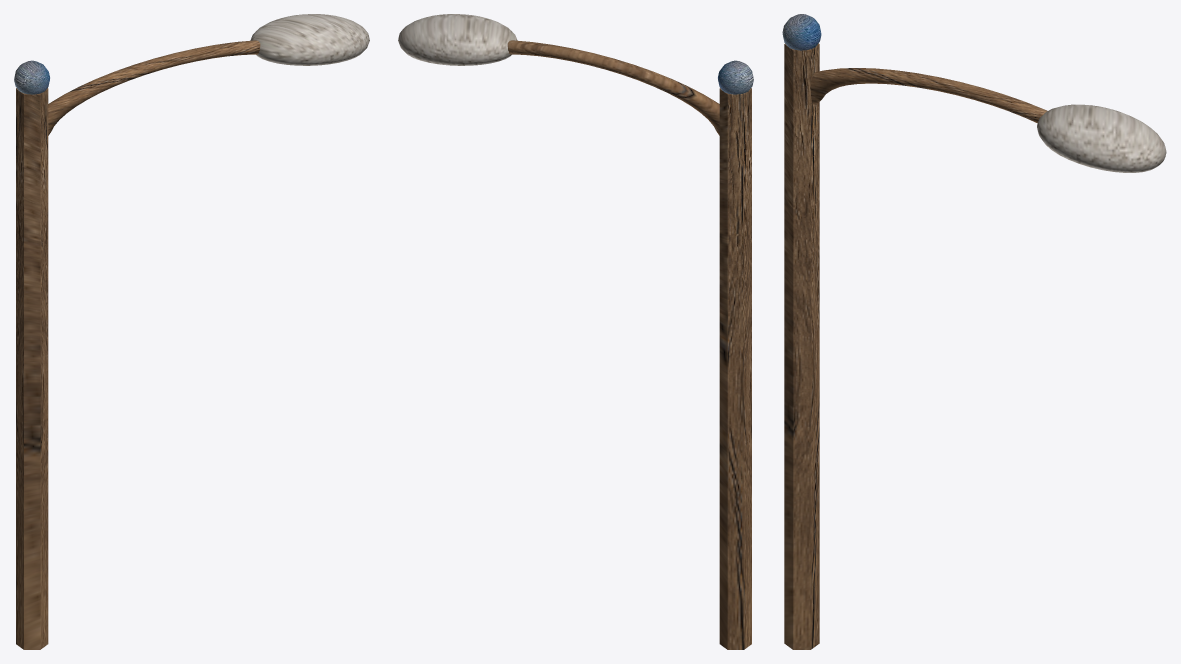
Rendered from P07-lampara.obj.
The picture shows the model from 3 angles, left to right: view 1: azimuth 30°, elevation 25°; view 2: azimuth 150°, elevation 25°; view 3: azimuth 330°, elevation 25°; orthographic projection. The views are drawn at different scales.
Visible parts, largest first — view 1: Pole_Cylinder, LightPart_Sphere.001, Torus.001, Sphere_Sphere.001; view 2: Pole_Cylinder, LightPart_Sphere.001, Torus.001, Sphere_Sphere.001; view 3: Pole_Cylinder, LightPart_Sphere.001, Torus.001, Sphere_Sphere.001.
Boxes of the visible parts, x1,y1,x2,y2 form: Pole_Cylinder: [16, 88, 48, 649]; LightPart_Sphere.001: [250, 14, 369, 65]; Torus.001: [48, 40, 260, 135]; Sphere_Sphere.001: [14, 60, 49, 94]; Pole_Cylinder: [719, 88, 751, 649]; LightPart_Sphere.001: [398, 14, 517, 65]; Torus.001: [507, 40, 719, 135]; Sphere_Sphere.001: [718, 60, 753, 94]; Pole_Cylinder: [784, 43, 819, 649]; LightPart_Sphere.001: [1037, 104, 1166, 172]; Torus.001: [810, 68, 1047, 123]; Sphere_Sphere.001: [782, 14, 821, 50].
Bounding box in the file's own units: 9.13 × 14.53 × 2.
